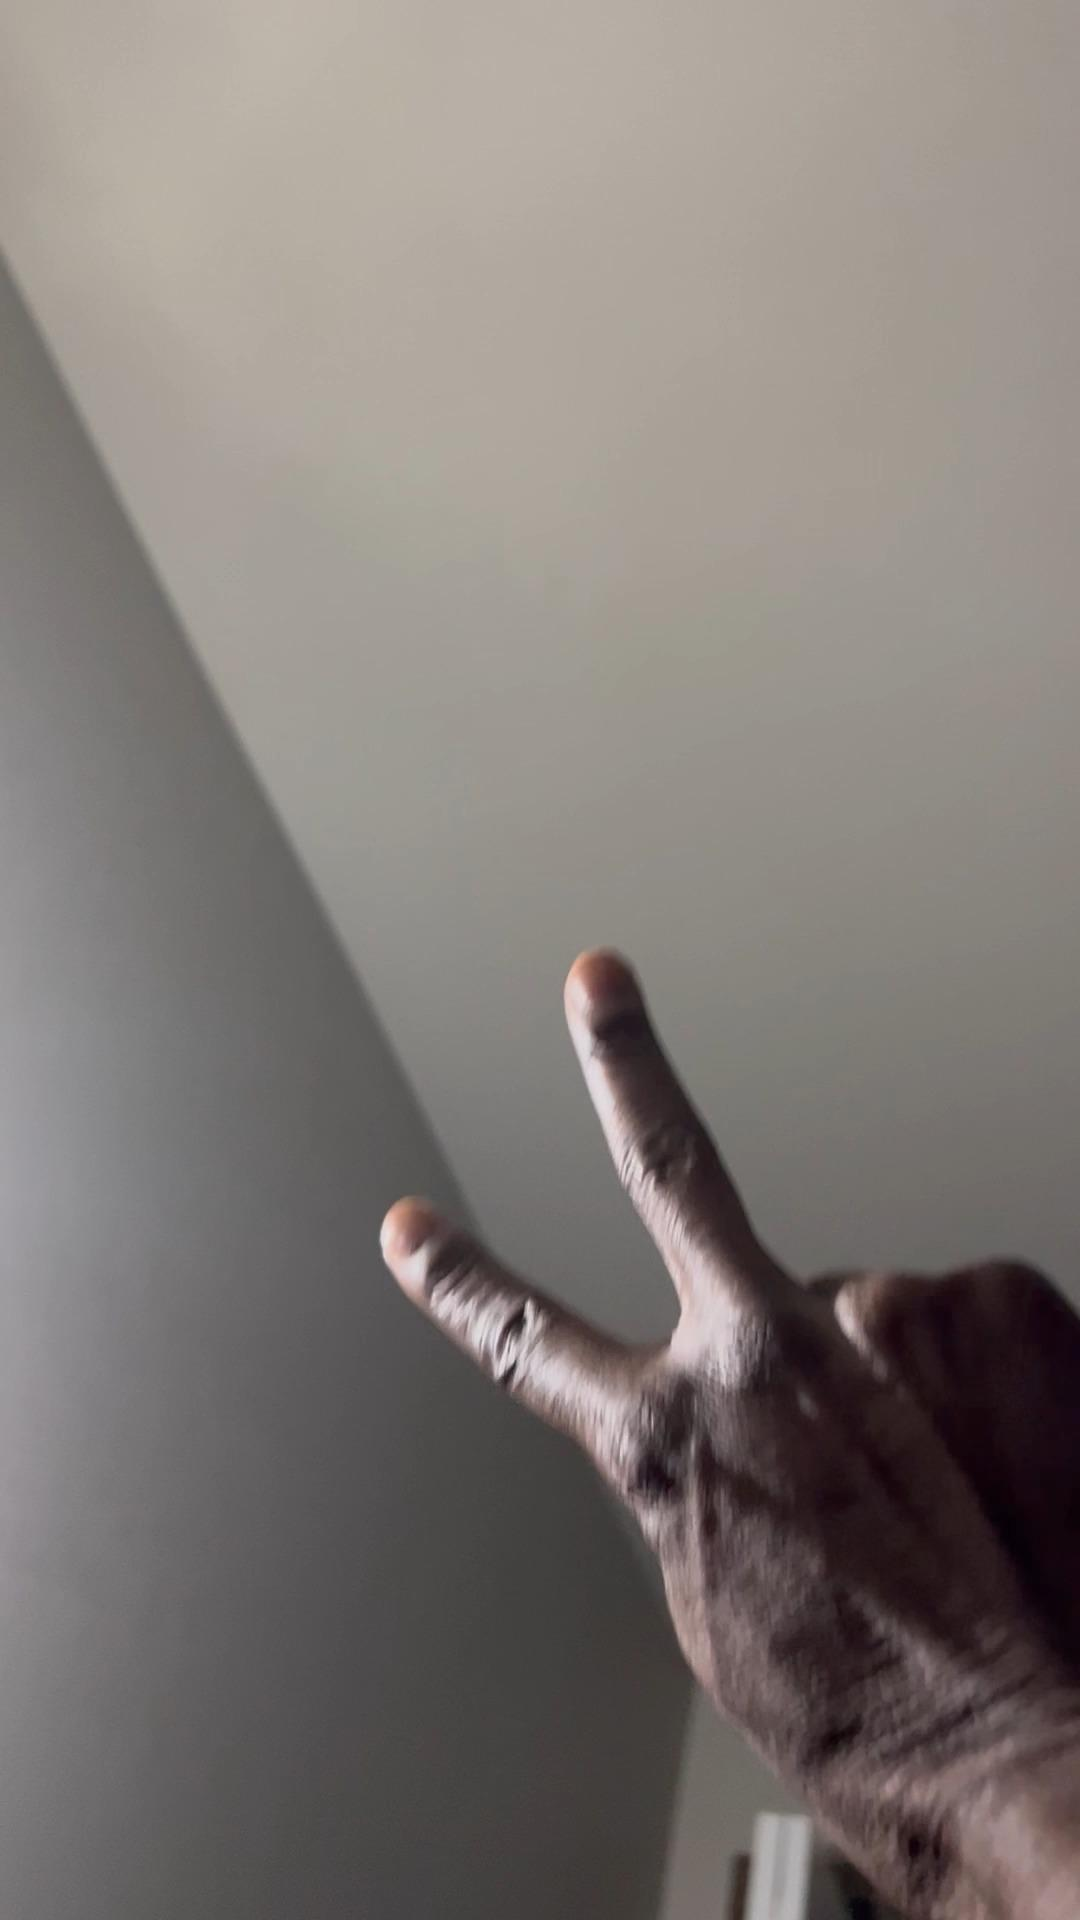Scissors: (383, 948, 1080, 1920)
